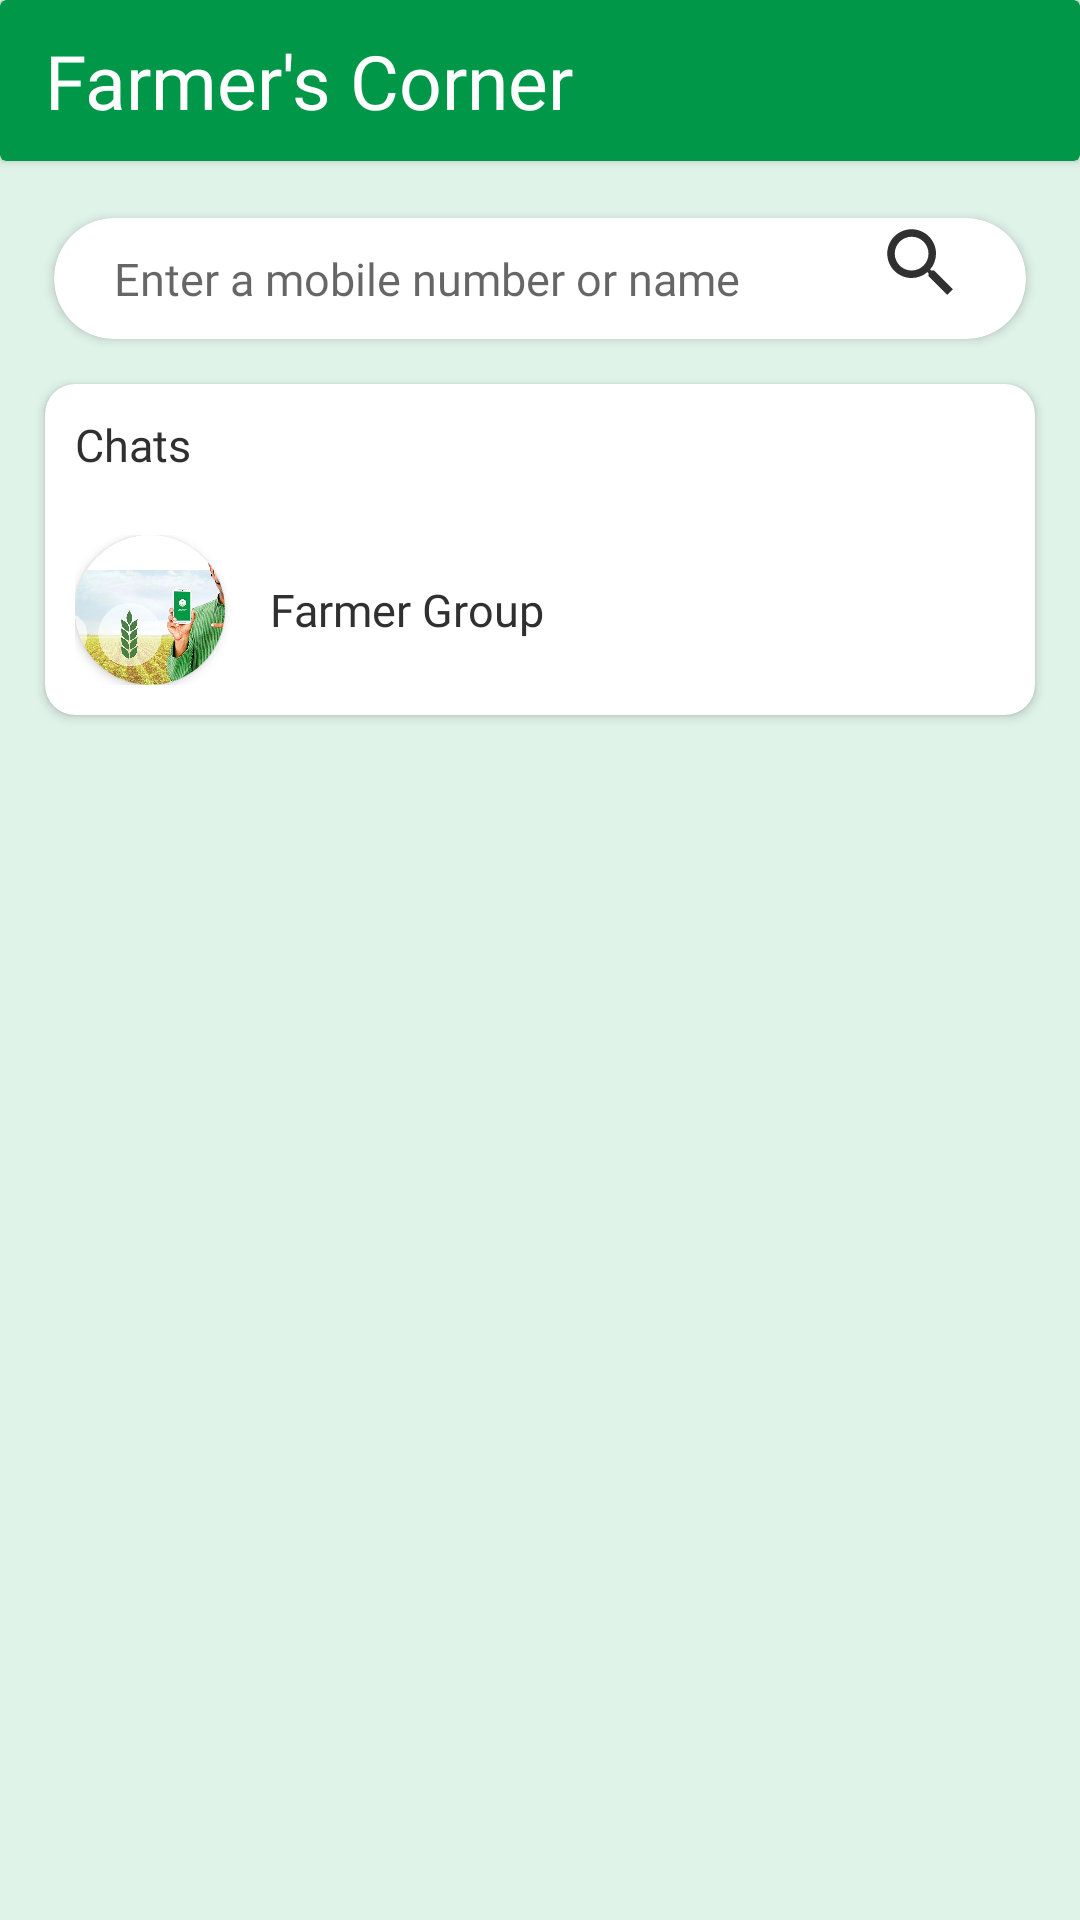

Icons on this 1080px x 1920px Android screen, each with the point to tap as (x=x, y=y):
search: (x=920, y=262)
